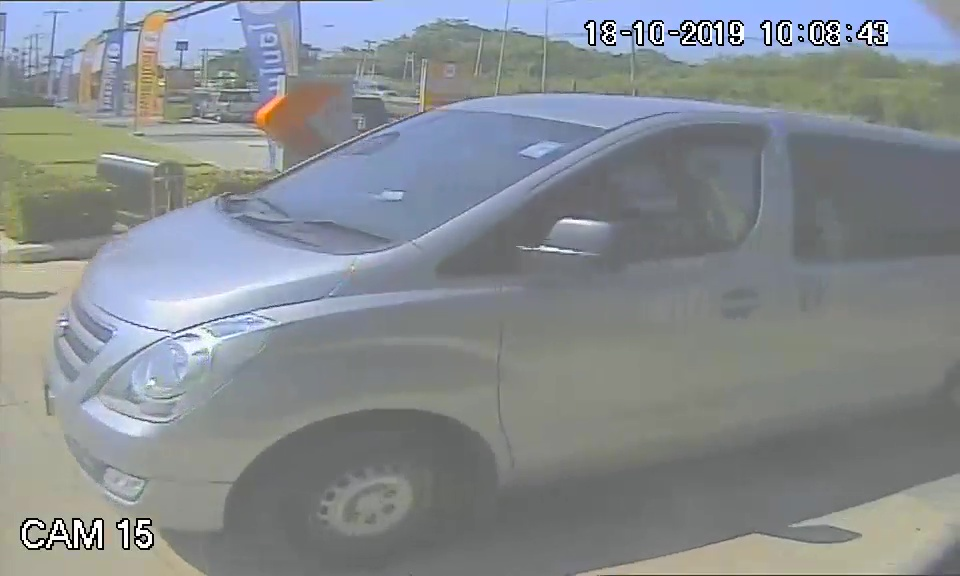van: (40, 89, 933, 531)
